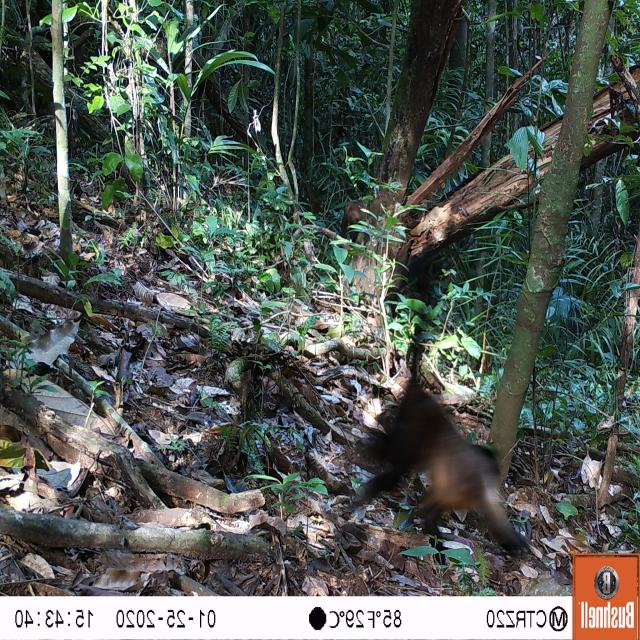Margarita Island Capuchin: (352, 321, 537, 569)
